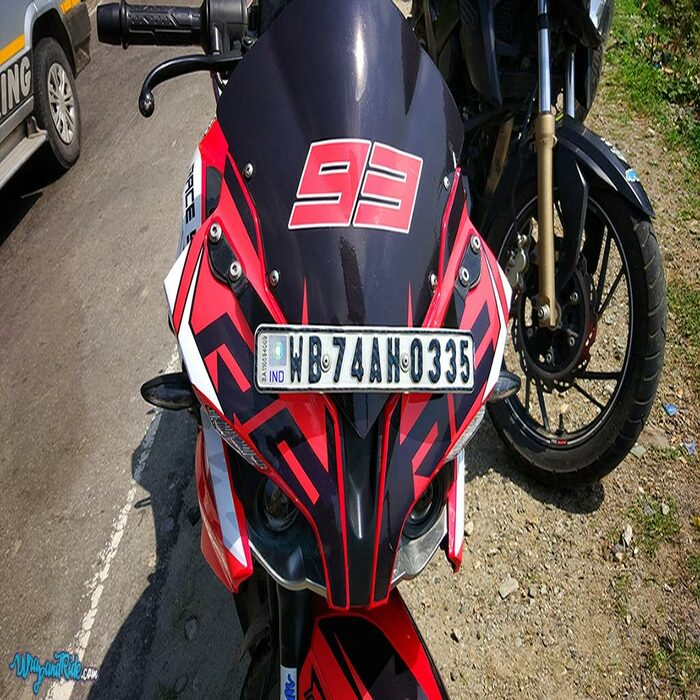n: (246, 320, 479, 394)
